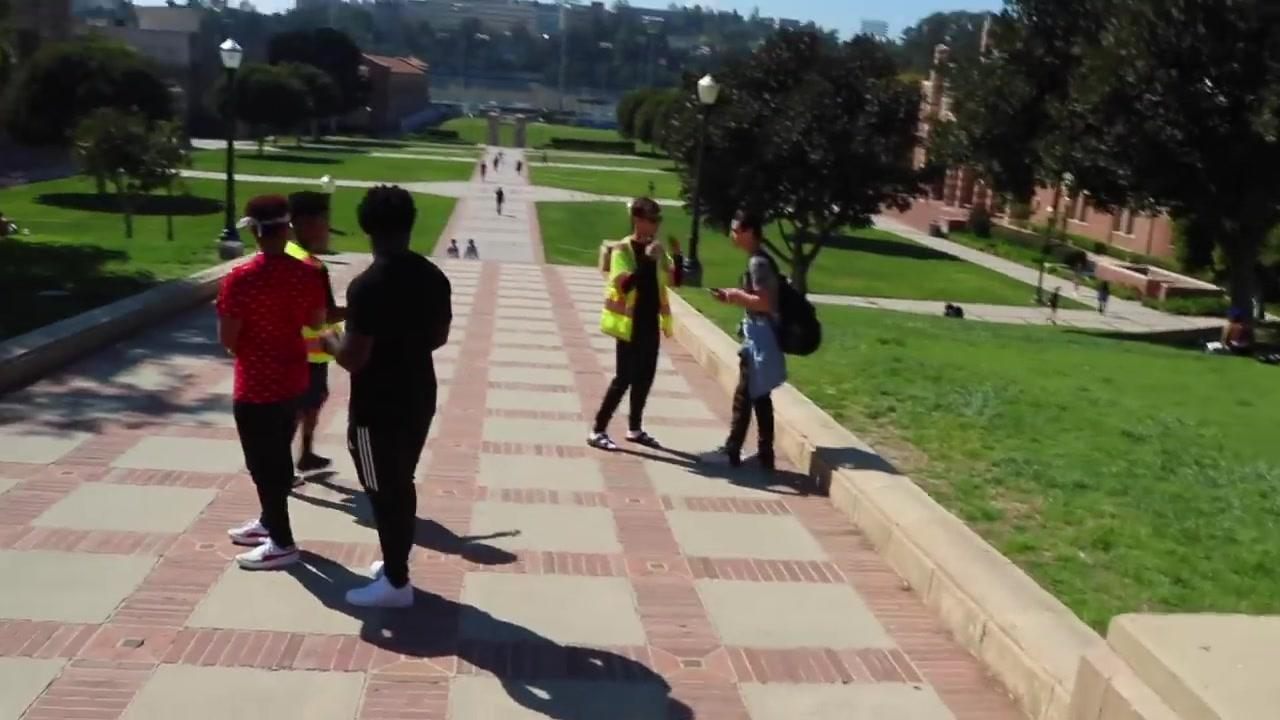vest: (603, 238, 675, 341), (284, 241, 333, 362)
